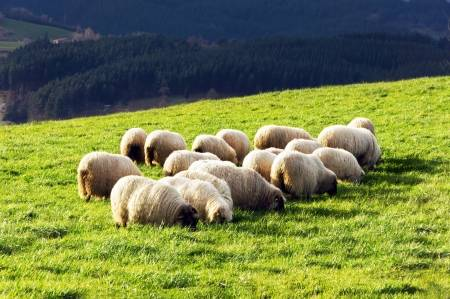sheep: (111, 174, 201, 236), (211, 163, 289, 214), (272, 149, 344, 204), (74, 148, 145, 194), (340, 120, 392, 164), (318, 143, 374, 183), (253, 117, 316, 149), (143, 127, 190, 157), (113, 123, 147, 160), (213, 124, 251, 157)
